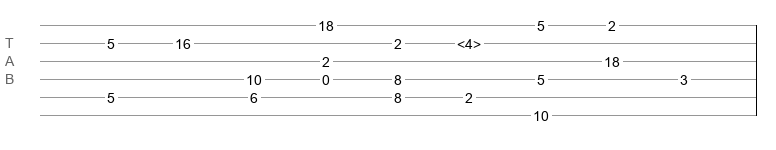0: (322, 72, 330, 82)
10: (246, 72, 262, 82), (533, 108, 549, 118)
16: (175, 36, 191, 46)
18: (318, 18, 334, 28), (604, 54, 620, 64)
2: (322, 54, 330, 64), (394, 36, 402, 46), (465, 90, 473, 100), (608, 18, 616, 28)
3: (680, 72, 688, 82)
5: (107, 36, 115, 46), (107, 90, 115, 100), (537, 18, 545, 28), (537, 72, 545, 82)
6: (250, 90, 258, 100)
8: (394, 72, 402, 82), (394, 90, 402, 100)
harmonic: (457, 36, 481, 46)
